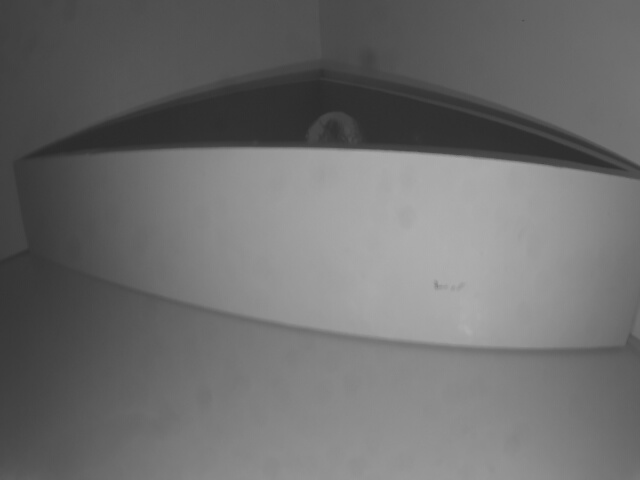Red: (15, 159, 640, 349)
